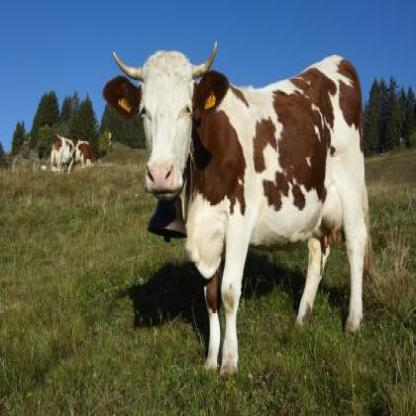cow: (103, 55, 367, 374), (50, 136, 76, 172), (76, 141, 95, 167)
